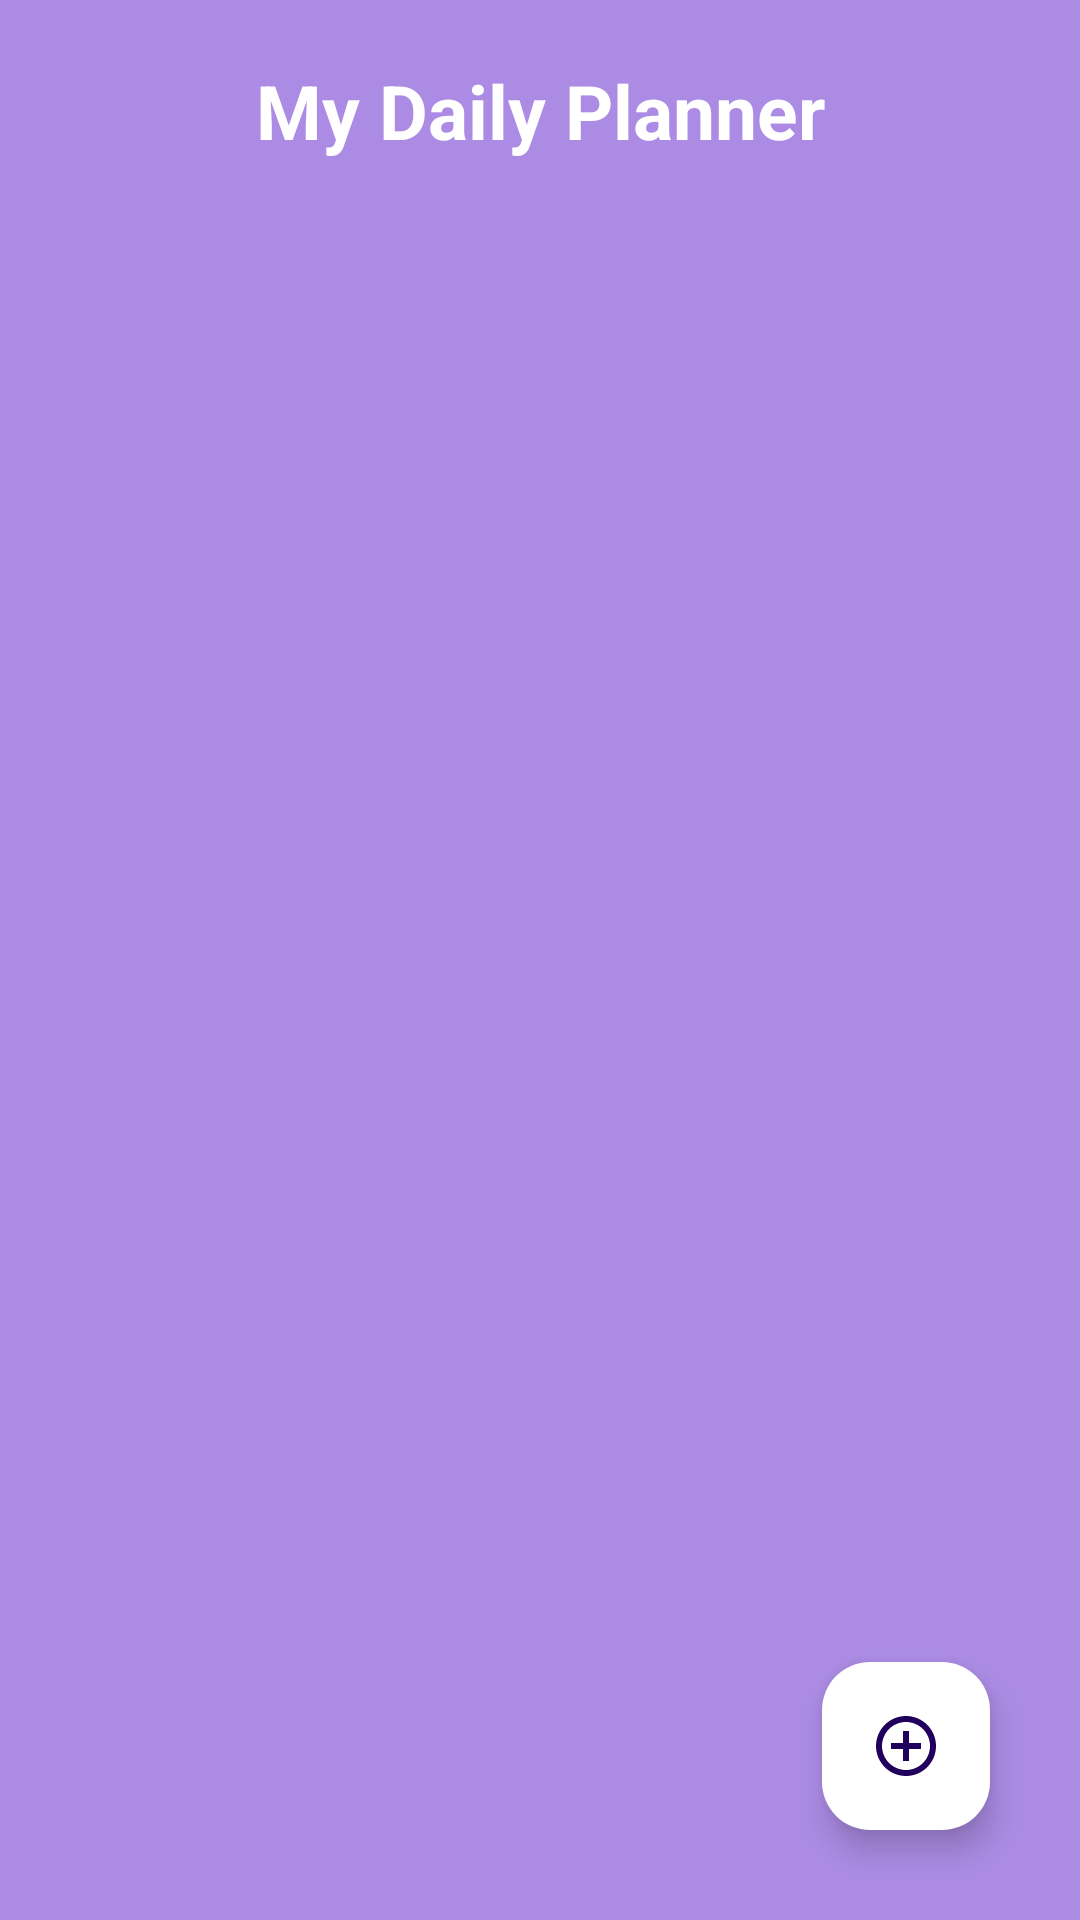

Named icons in this screenshot (1080px x 1920px) and their centers, (x,y):
add circle: (906,1746)
